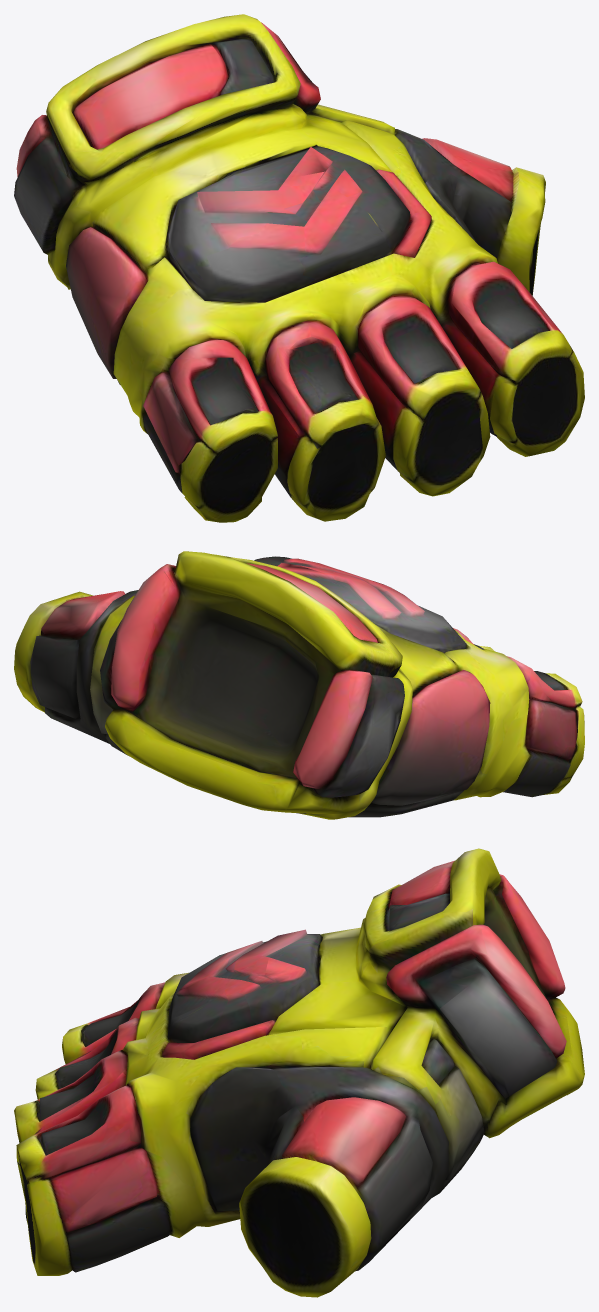
File: GE18_hunter_gloves.glb
The picture shows the model from 3 angles, top to bottom: view 1: azimuth 30°, elevation 25°; view 2: azimuth 150°, elevation 25°; view 3: azimuth 270°, elevation 25°; orthographic projection. The views are drawn at different scales.
Visible parts, largest first — view 1: tripo_node_d922935b-d639-4e95-b850-cc599243a8f4; view 2: tripo_node_d922935b-d639-4e95-b850-cc599243a8f4; view 3: tripo_node_d922935b-d639-4e95-b850-cc599243a8f4.
Part boxes in pixels (x1,y1,x2,y2): tripo_node_d922935b-d639-4e95-b850-cc599243a8f4: (14, 14, 584, 522); tripo_node_d922935b-d639-4e95-b850-cc599243a8f4: (14, 551, 584, 819); tripo_node_d922935b-d639-4e95-b850-cc599243a8f4: (14, 848, 584, 1297).
Bounding box in the file's own units: 0.9988 × 0.6867 × 0.9983.
1 material, 1 textured.
